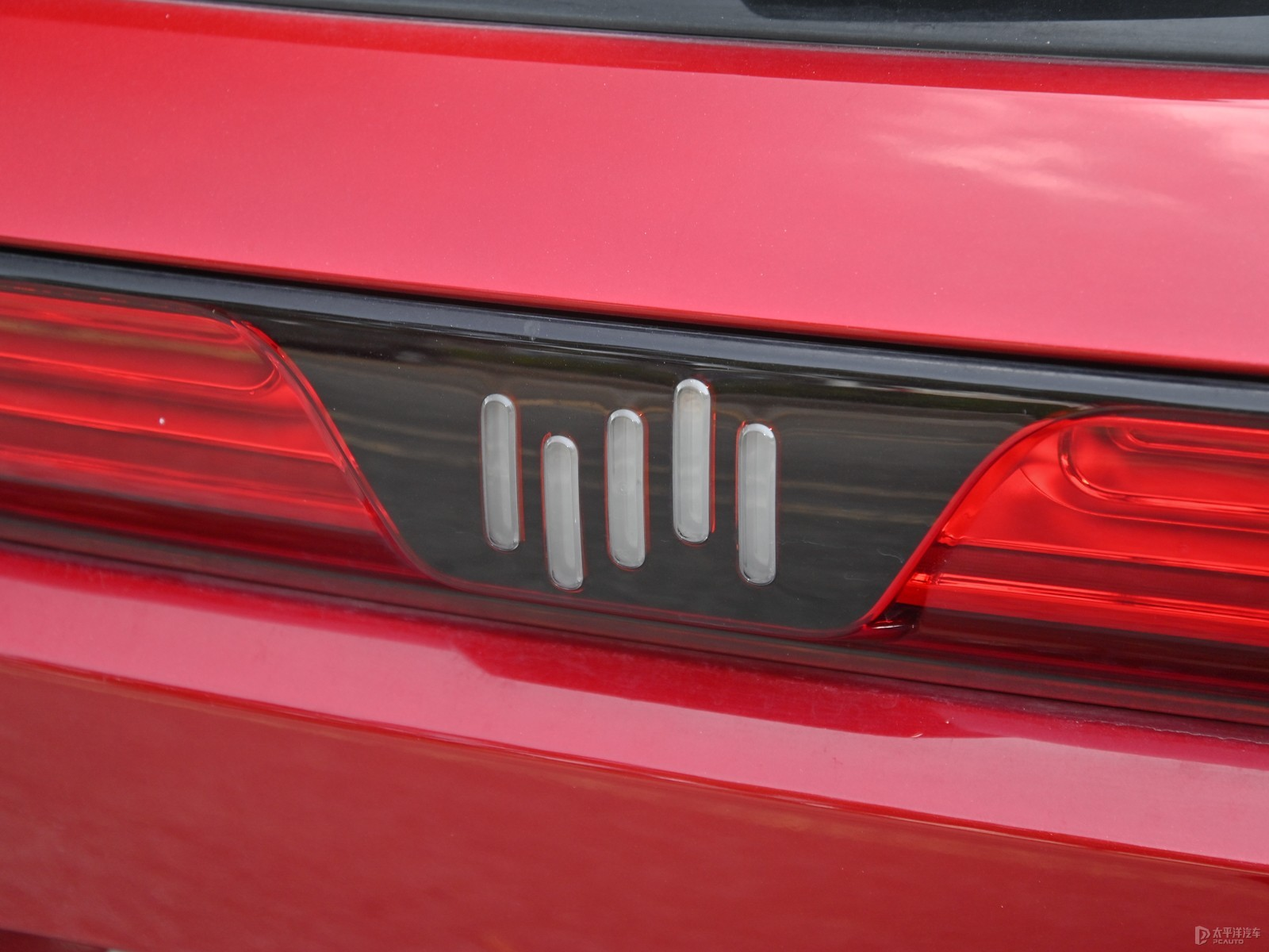WELTMEISTER: (483, 379, 776, 589)
